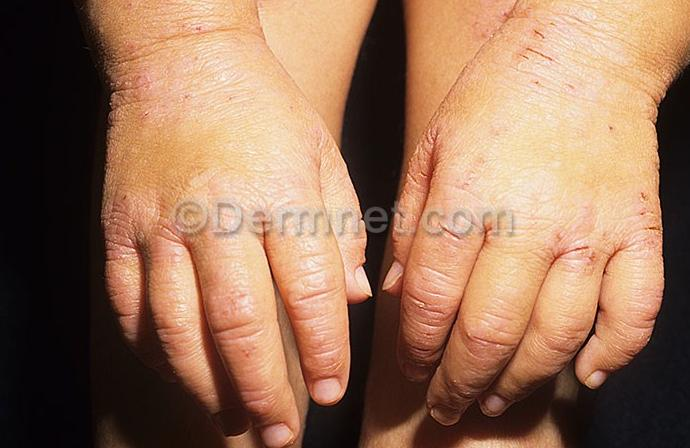excoriacion 2: (107, 47, 364, 404), (407, 14, 665, 318)
